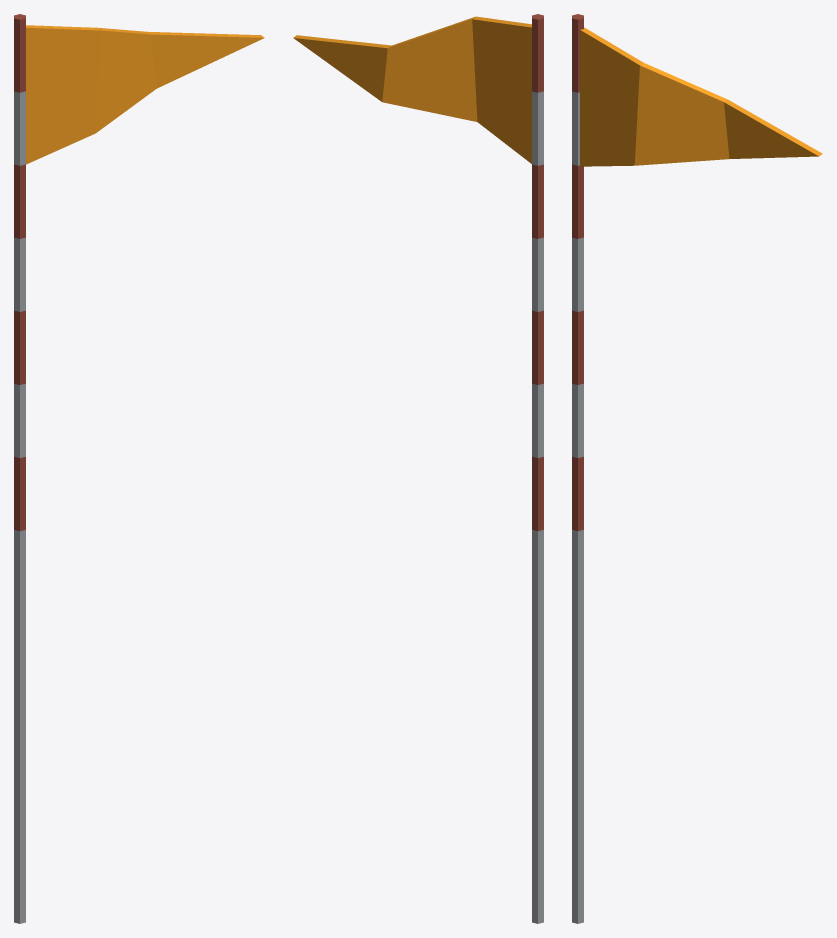
Rendered from SM_Prop_Minigolf_Flag_01.fbx.
3 renders of one model, left to right at view 1: azimuth 30°, elevation 25°; view 2: azimuth 150°, elevation 25°; view 3: azimuth 330°, elevation 25°, orthographic.
Parts seen in each view (by area): view 1: SM_Prop_Minigolf_Flag_01; view 2: SM_Prop_Minigolf_Flag_01; view 3: SM_Prop_Minigolf_Flag_01.
Boxes of the visible parts, left/top/right/bottom form: SM_Prop_Minigolf_Flag_01: left=14, top=14, right=264, bottom=923; SM_Prop_Minigolf_Flag_01: left=293, top=14, right=543, bottom=923; SM_Prop_Minigolf_Flag_01: left=572, top=14, right=822, bottom=923.
Bounding box in the file's own units: 44.7 × 155 × 6.47.
